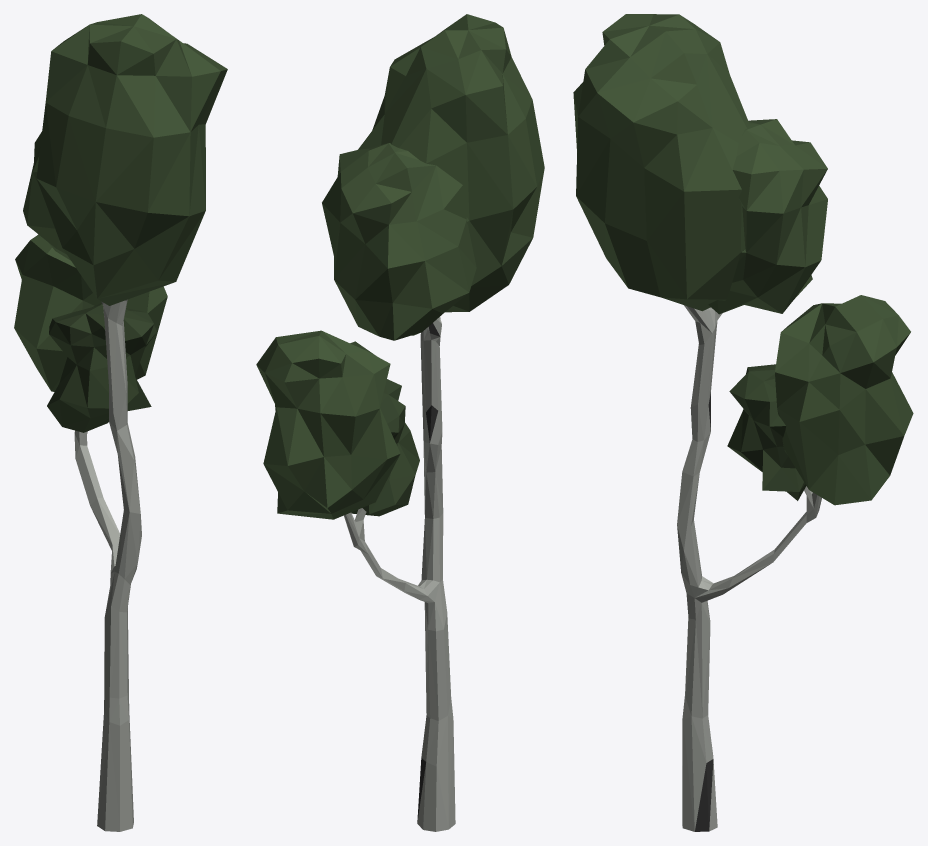
Rendered from BirchTree_5.glb.
3 renders of one model, left to right at view 1: azimuth 30°, elevation 25°; view 2: azimuth 150°, elevation 25°; view 3: azimuth 270°, elevation 25°, orthographic. The views are drawn at different scales.
Visible parts, largest first — view 1: BirchTree_5_Cube.072; view 2: BirchTree_5_Cube.072; view 3: BirchTree_5_Cube.072.
Boxes of the visible parts, box(x1,y1,x2,y2) form: BirchTree_5_Cube.072: box(14, 14, 227, 831); BirchTree_5_Cube.072: box(256, 14, 544, 831); BirchTree_5_Cube.072: box(573, 14, 913, 831).
Bounding box in the file's own units: 1.19 × 5 × 1.93.
